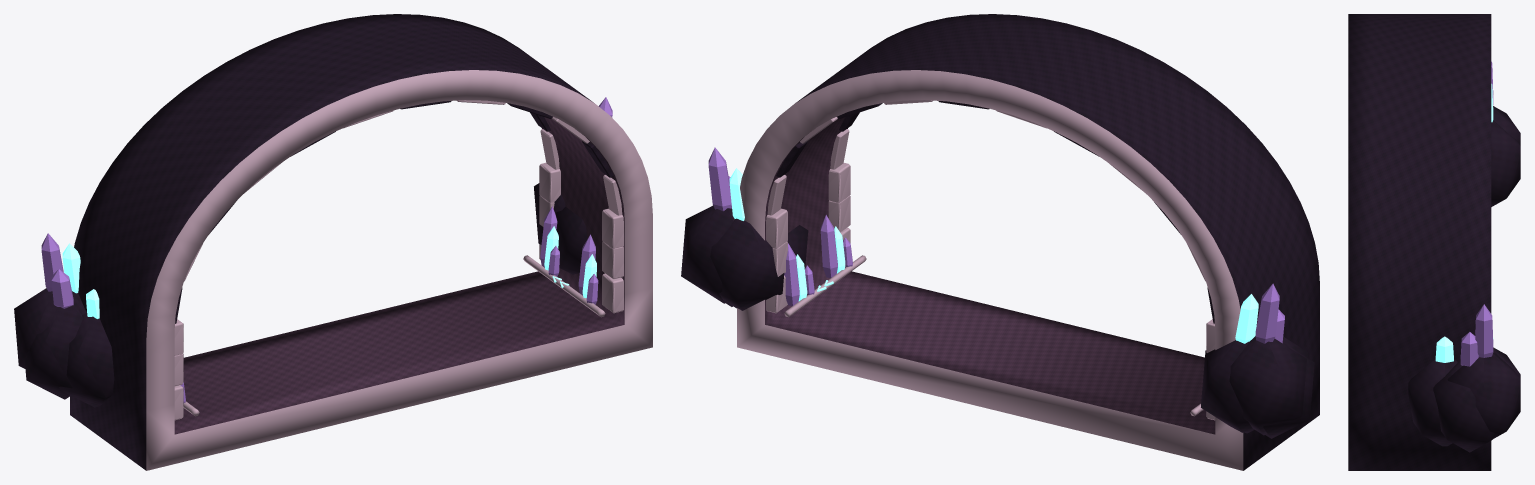
File: portal_exit_lod1.glb
The picture shows the model from 3 angles, left to right: view 1: azimuth 30°, elevation 25°; view 2: azimuth 150°, elevation 25°; view 3: azimuth 270°, elevation 25°; orthographic projection. The views are drawn at different scales.
Parts seen in each view (by area): view 1: TunnelGeometry.001; view 2: TunnelGeometry.001; view 3: TunnelGeometry.001.
Part boxes in pixels (left/top/right/bottom): TunnelGeometry.001: left=14, top=14, right=652, bottom=470; TunnelGeometry.001: left=681, top=14, right=1319, bottom=470; TunnelGeometry.001: left=1348, top=14, right=1520, bottom=470.
Size of the model in its own units: 18.63 by 9.52 by 4.82.
Materials: 5 (2 with a texture image).
